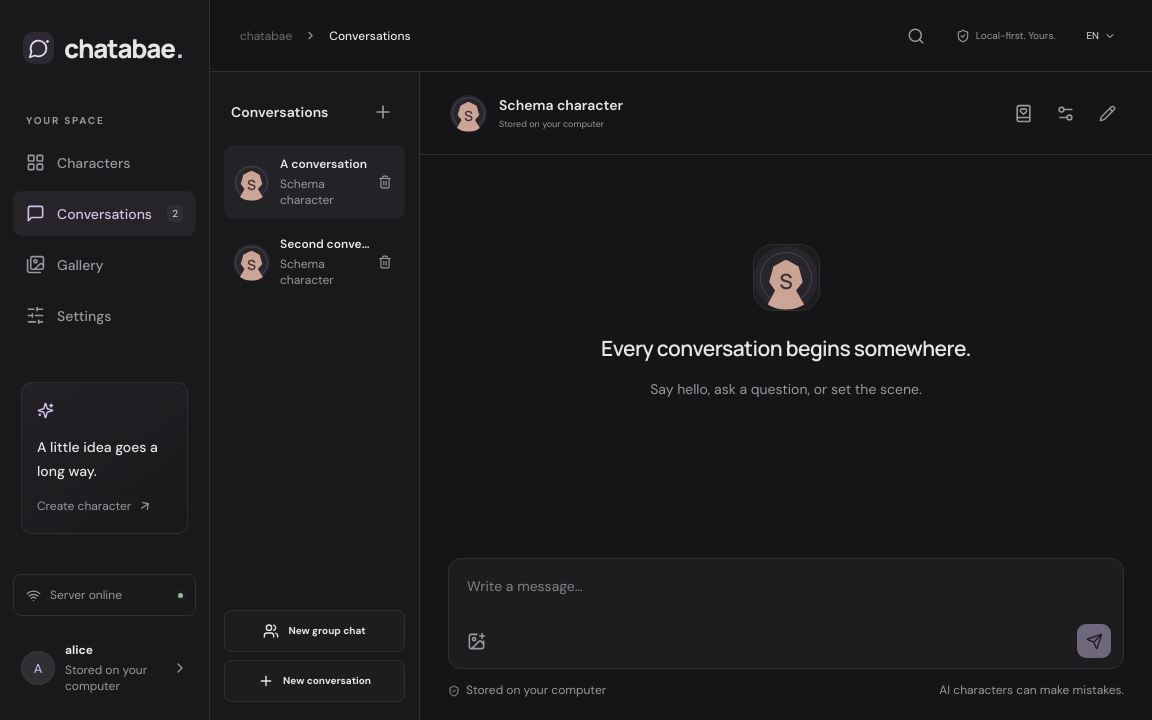
Scenario: character space › keeps foreign-character changes temporary and resets them when switching conversations
Click the button named "Settings" at [1065, 113], box [1050,98,1080,128]
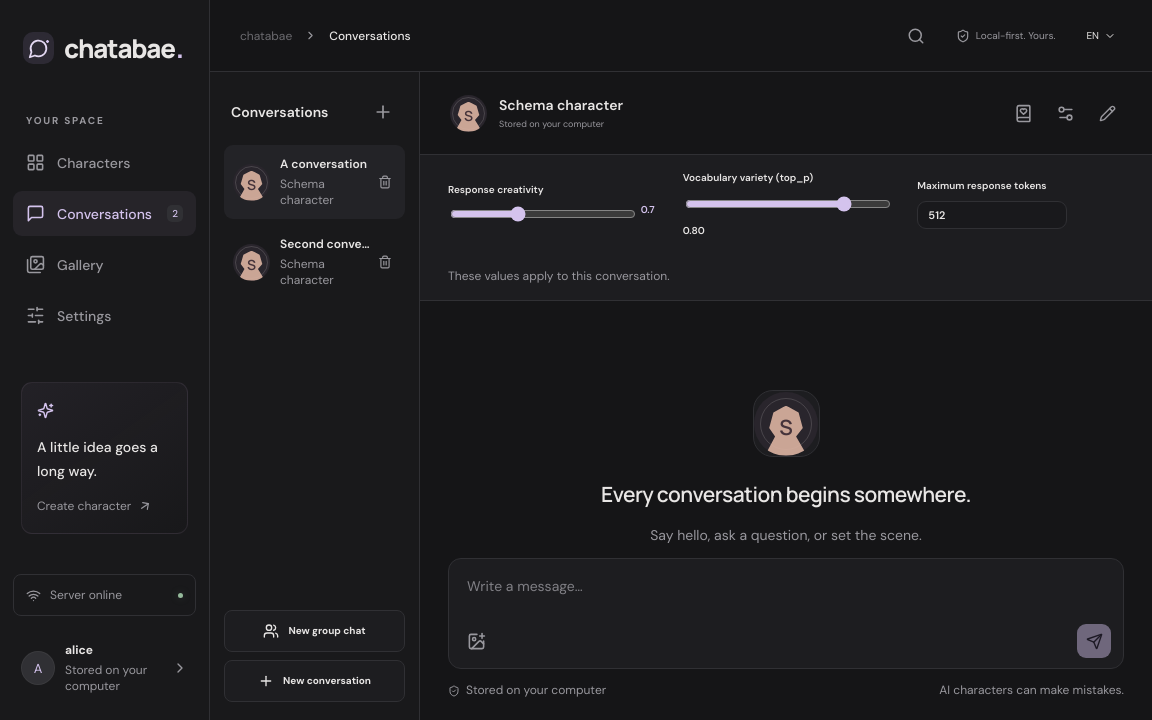
Set the slider labelled "Response creativity" to "1.2" at [560, 214], box [450,205,636,223]
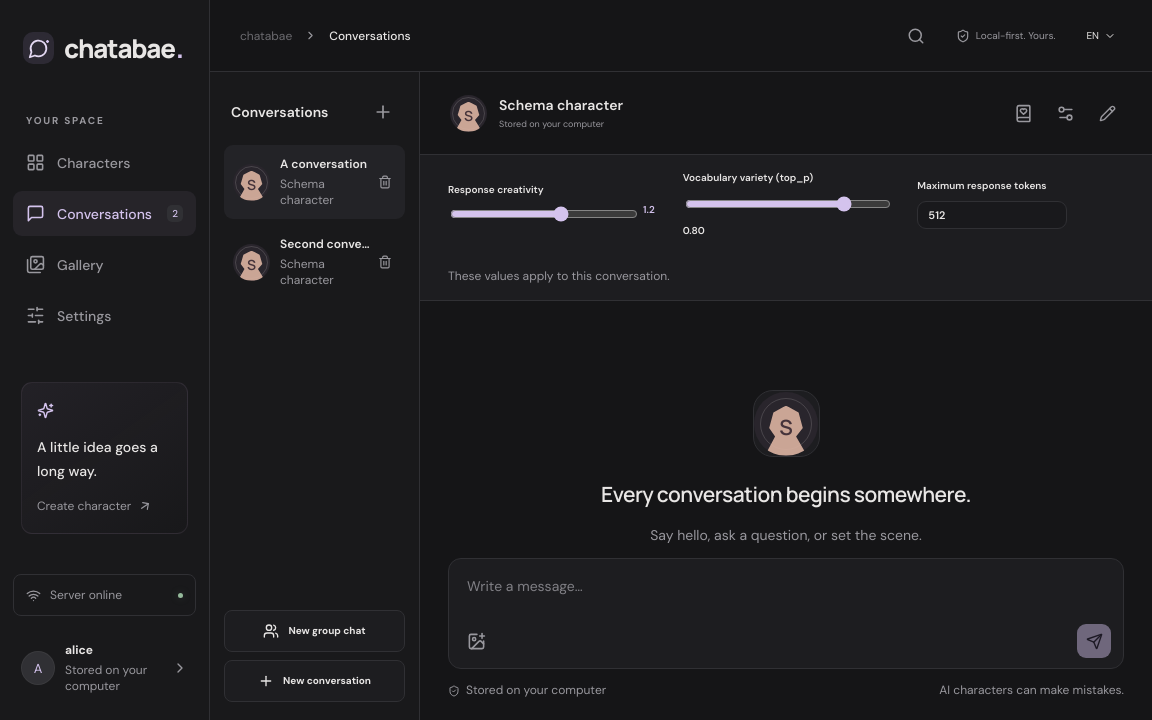
Click the link "S Second conversation Schema character" at [304, 262], box [233,236,374,288]
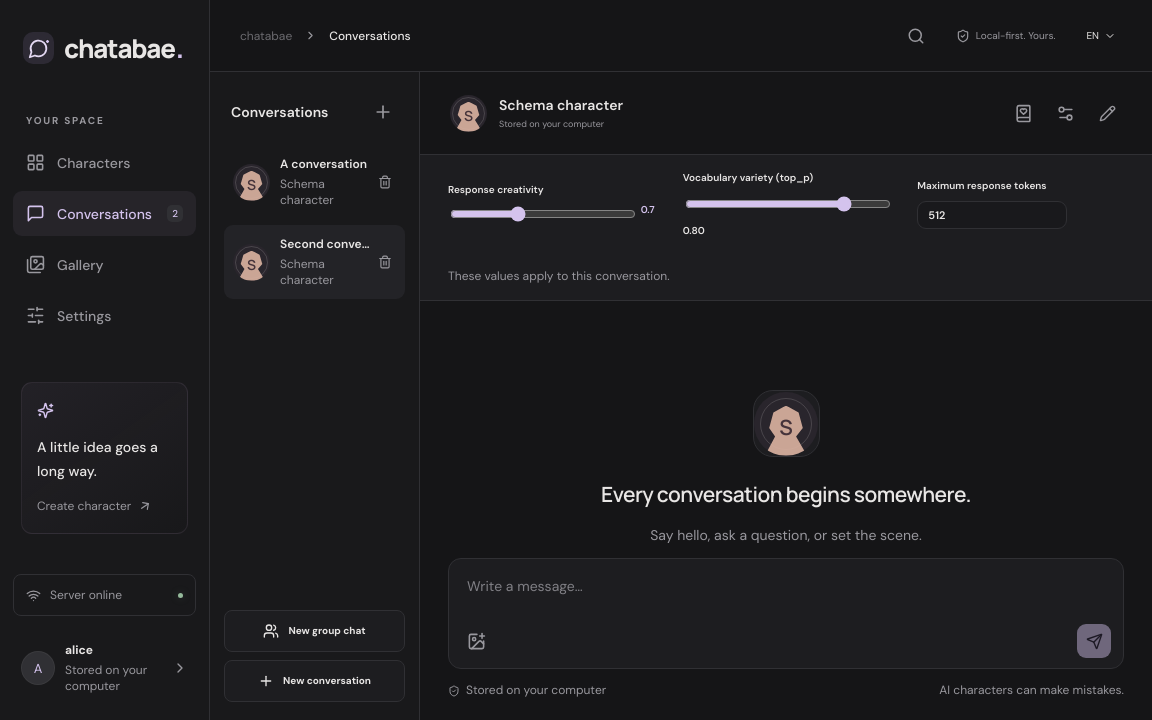
Result: the slider labelled "Response creativity" holds "0.7" at [450,205,636,223]
